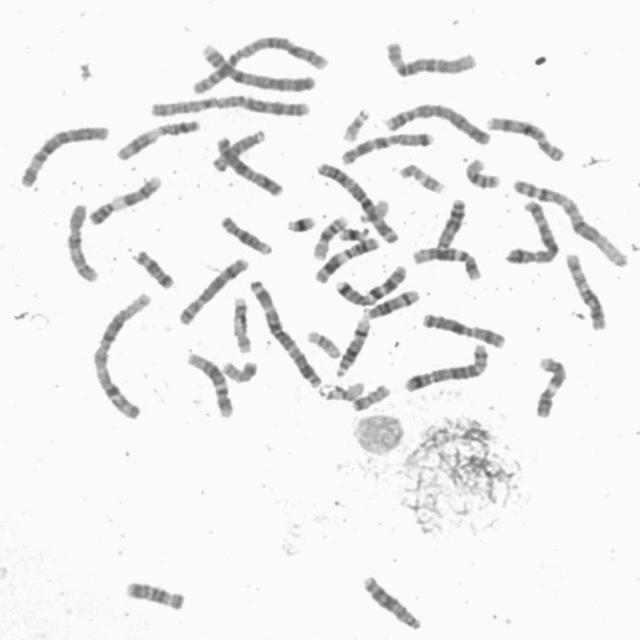A1: (509, 173, 633, 269), (88, 286, 155, 422)
A2: (189, 31, 329, 95), (144, 88, 314, 119)
A3: (244, 273, 326, 390), (311, 156, 402, 244)
B4: (379, 98, 494, 146), (202, 46, 318, 92)
B5: (400, 338, 492, 394), (501, 195, 563, 266)
C10: (560, 247, 610, 332), (62, 197, 102, 284)
C11: (111, 112, 204, 162), (310, 232, 382, 284)
C12: (182, 346, 236, 418), (408, 241, 485, 281)
C6: (14, 118, 111, 188), (380, 35, 481, 78)
C7: (336, 125, 437, 166), (331, 258, 411, 308)
C8: (174, 251, 253, 326), (482, 110, 568, 162)
C9: (84, 169, 166, 226), (524, 354, 577, 423)
D13: (358, 569, 425, 632), (432, 193, 468, 251)
D14: (332, 311, 373, 379), (360, 283, 422, 320)
D15: (208, 124, 268, 172), (216, 210, 275, 256)
E16: (310, 210, 350, 261), (461, 152, 504, 190)
E17: (395, 156, 448, 195), (228, 291, 256, 355)
E18: (120, 574, 188, 612), (128, 243, 177, 290)
F19: (302, 324, 343, 360), (314, 375, 366, 402)
F20: (347, 378, 394, 412), (218, 354, 261, 384)
G21: (282, 209, 319, 233), (334, 221, 372, 242)
G22: (338, 102, 373, 143), (354, 193, 391, 224)
X: (211, 130, 286, 198), (418, 306, 508, 349)
